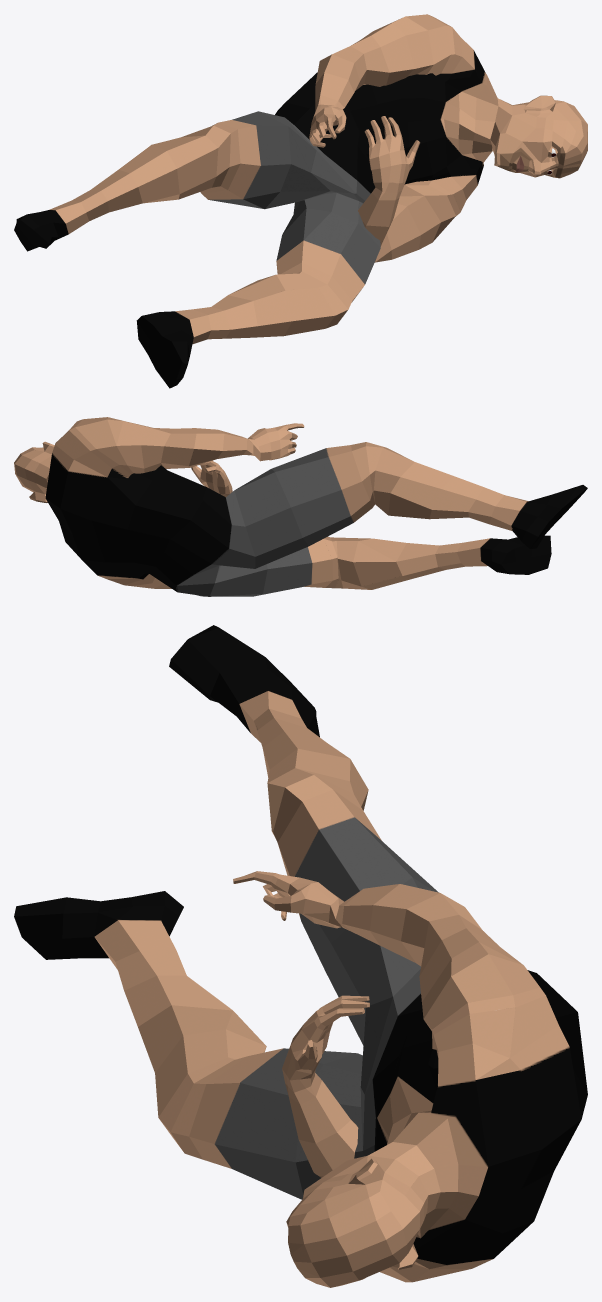
The model's file is PlayerDead(52).obj.
3 renders of one model, top to bottom at view 1: azimuth 30°, elevation 25°; view 2: azimuth 150°, elevation 25°; view 3: azimuth 270°, elevation 25°, orthographic. The views are drawn at different scales.
Parts seen in each view (by area): view 1: Plane002; view 2: Plane002; view 3: Plane002.
Boxes of the visible parts, bbox=[...] form: Plane002: bbox=[14, 14, 587, 388]; Plane002: bbox=[14, 417, 587, 596]; Plane002: bbox=[14, 625, 587, 1287].
Bounding box in the file's own units: 1739 × 565 × 869.
